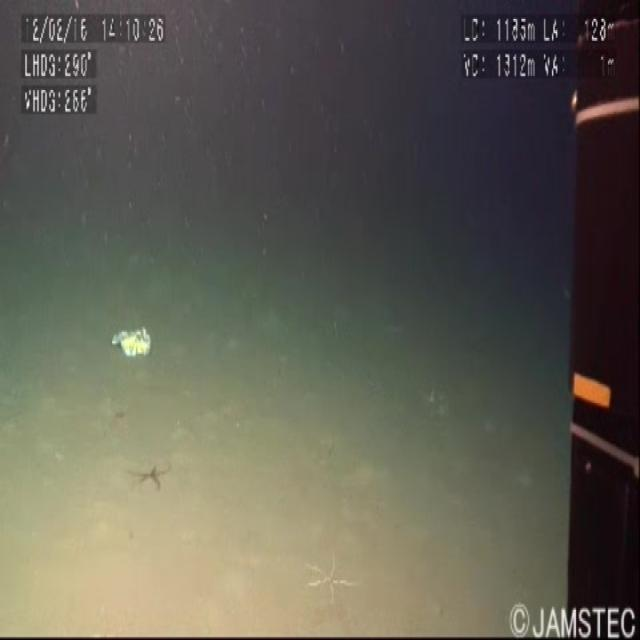Litter: (102, 309, 166, 376)
